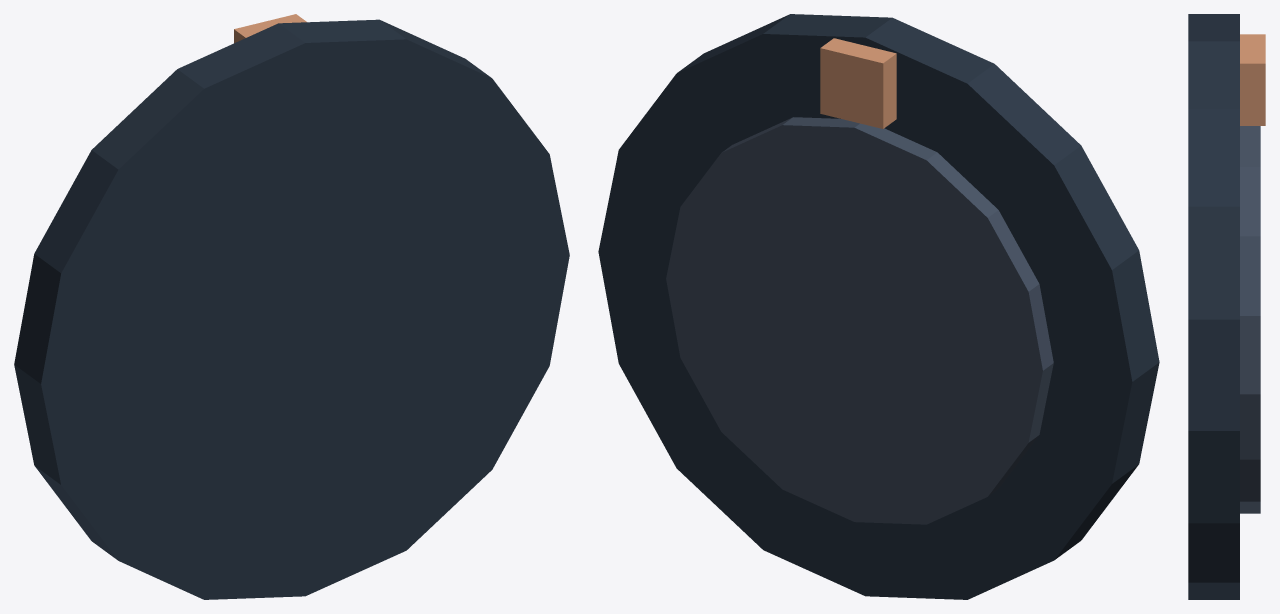
File: steering_wheel.glb
3 views of the same model, side by side, from view 1: azimuth 30°, elevation 25°; view 2: azimuth 150°, elevation 25°; view 3: azimuth 270°, elevation 25° (orthographic). The views are drawn at different scales.
Visible parts, largest first — view 1: steering_wheel; view 2: steering_wheel; view 3: steering_wheel.
Boxes of the visible parts, box(x1,y1,x2,y2) form: steering_wheel: box(14, 14, 569, 599); steering_wheel: box(598, 14, 1159, 599); steering_wheel: box(1188, 14, 1265, 599).
Size of the model in its own units: 0.34 by 0.34 by 0.045.
